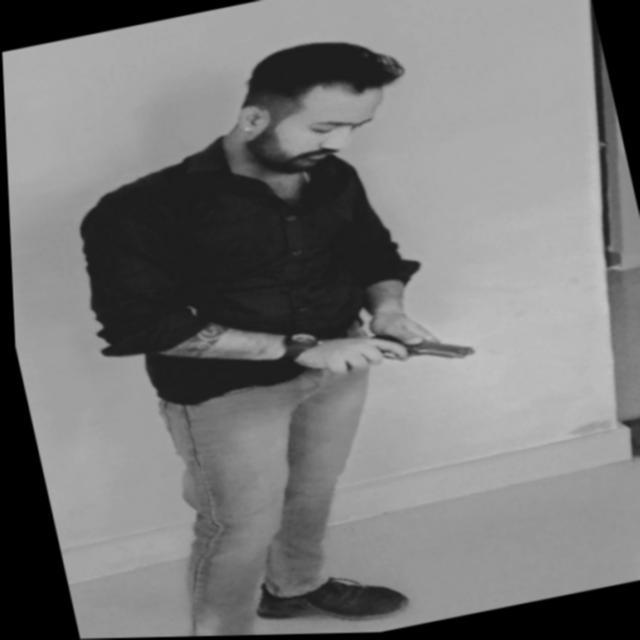weapon: (280, 308, 482, 397)
